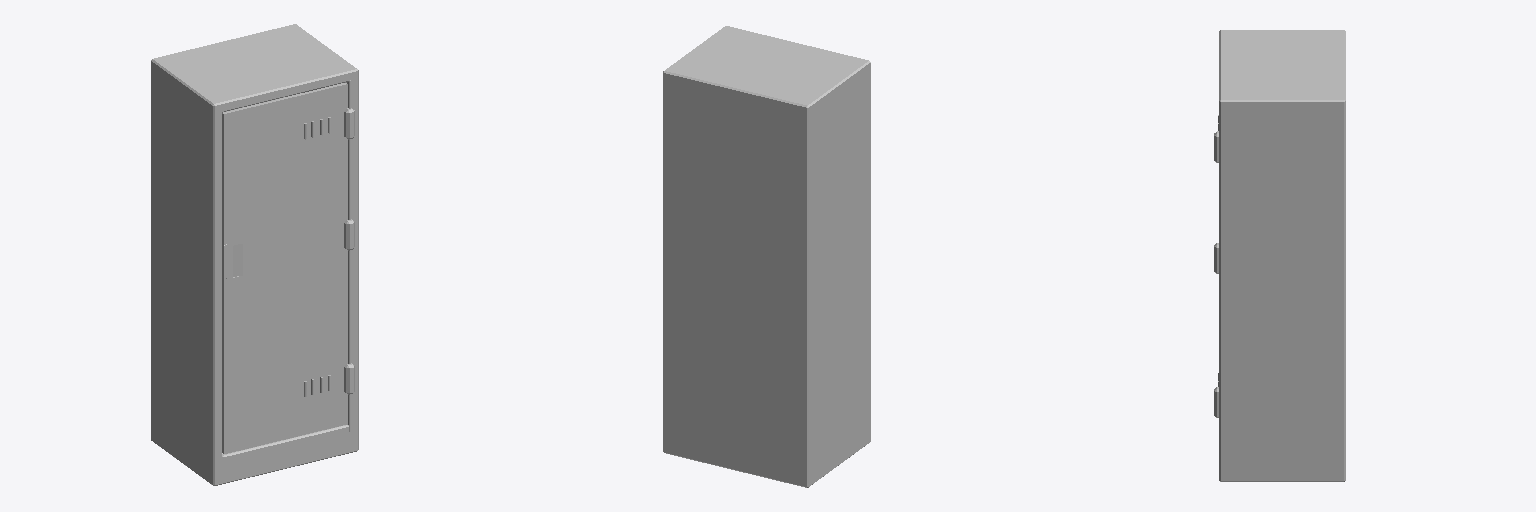
The model's file is cleanBox.obj.
3 views of the same model, side by side, from view 1: azimuth 30°, elevation 25°; view 2: azimuth 150°, elevation 25°; view 3: azimuth 270°, elevation 25° (orthographic).
Parts seen in each view (by area): view 1: cleanBox; view 2: cleanBox; view 3: cleanBox.
Boxes of the visible parts, box(x1,y1,x2,y2) form: cleanBox: box(151, 24, 358, 485); cleanBox: box(663, 26, 870, 487); cleanBox: box(1214, 30, 1345, 481).
Bounding box in the file's own units: 4 × 10 × 3.11.